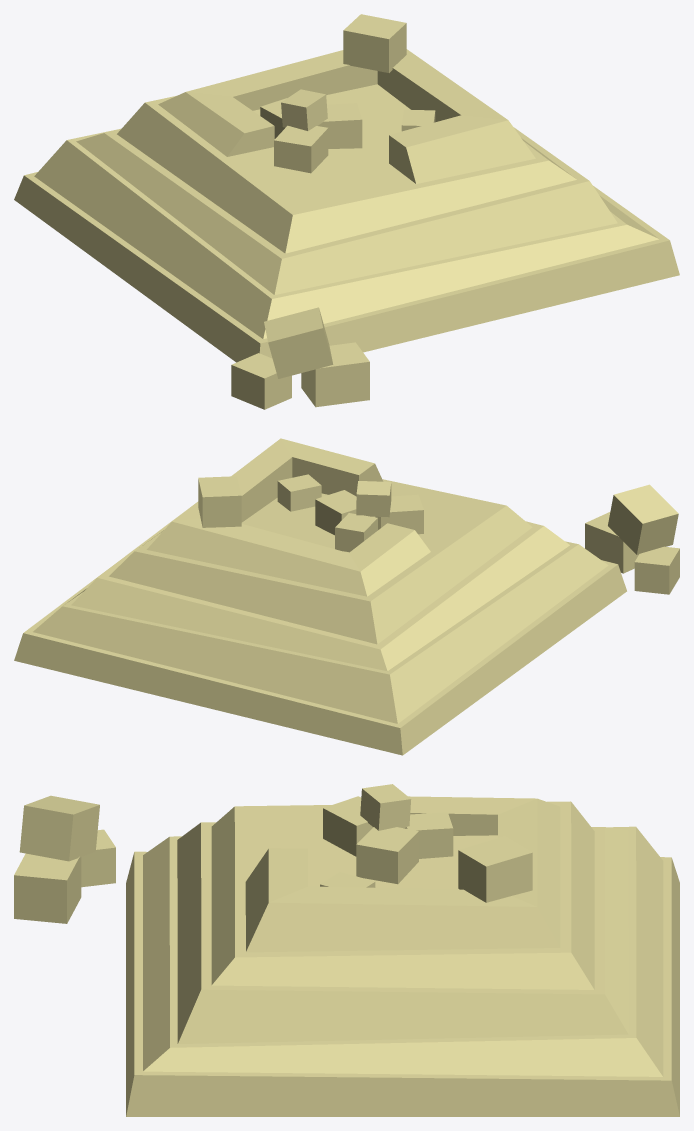
The model's file is pryamid_teir1.fbx.
The picture shows the model from 3 angles, top to bottom: view 1: azimuth 30°, elevation 25°; view 2: azimuth 150°, elevation 25°; view 3: azimuth 270°, elevation 25°; orthographic projection. The views are drawn at different scales.
Visible parts, largest first — view 1: Cube.008; view 2: Cube.008; view 3: Cube.008.
Boxes of the visible parts, box(x1,y1,x2,y2) form: Cube.008: box(14, 14, 679, 409); Cube.008: box(14, 438, 679, 755); Cube.008: box(14, 784, 679, 1116).
Bounding box in the file's own units: 575 × 199 × 636.
